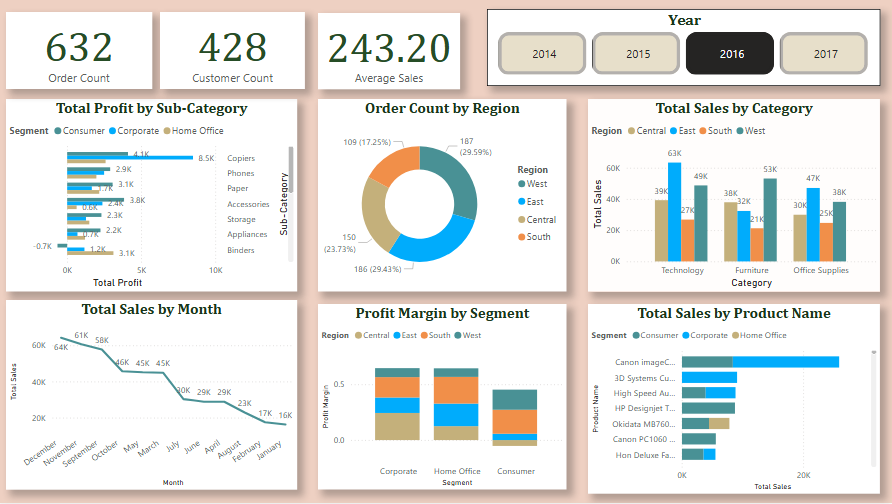

What the dashboard file says about the page in this screenshot:
{"tool":"powerbi","page":{"name":"Page 1","canvas":[1280,720],"ordinal":0},"visuals":[{"type":"clusteredColumnChart","title":"Total Sales by Category ","fields":{"Category":["Sample - Superstore.Category"],"Y":["Sample - Superstore.Total Sales"],"Series":["Sample - Superstore.Region"]},"box":[844.9,143.5,417.4,275.4],"z":0},{"type":"clusteredBarChart","title":"Total Profit by Sub-Category ","fields":{"Category":["Sample - Superstore.Sub-Category"],"Y":["Sample - Superstore.Total Profit"],"Series":["Sample - Superstore.Segment"]},"box":[13,143.5,415.9,275.4],"z":1000},{"type":"lineChart","fields":{"Category":["Sample - Superstore.Month"],"Y":["Sample - Superstore.Total Sales"]},"box":[13,430.4,415.9,271],"z":2000},{"type":"barChart","title":"Total Sales by Product Name","fields":{"Y":["Sample - Superstore.Total Sales"],"Category":["Sample - Superstore.Product Name"],"Series":["Sample - Superstore.Segment"]},"box":[844.9,436.2,417.4,271],"z":3000},{"type":"card","fields":{"Values":["Sample - Superstore.Order Count"]},"box":[13,18.8,208.7,110.1],"z":4000},{"type":"advancedSlicerVisual","fields":{"Values":["Sample - Superstore.Year"]},"box":[700,14.5,562.3,110.1],"z":5000},{"type":"card","fields":{"Values":["Sample - Superstore.Average Sales"]},"box":[458,20.3,202.9,108.7],"z":6000},{"type":"card","fields":{"Values":["Sample - Superstore.Customer Count"]},"box":[233.3,18.8,207.2,110.1],"z":7000},{"type":"donutChart","fields":{"Y":["Sample - Superstore.Order Count"],"Category":["Sample - Superstore.Region"]},"box":[458,143.5,355.1,275.4],"z":8000},{"type":"columnChart","title":"Profit Margin by Segment","fields":{"Category":["Sample - Superstore.Segment"],"Y":["Sample - Superstore.Profit Margin"],"Series":["Sample - Superstore.Region"]},"box":[458,436.2,355.1,265.2],"z":9000}]}

Visuals, with their boxes in screenshot pixels (x1, y1, x2, y2), scaled from the page's 1280x720 canvas onto the 892x504 screenshot:
"Total Sales by Category " clusteredColumnChart: [left=589, top=100, right=880, bottom=293]
"Total Profit by Sub-Category " clusteredBarChart: [left=9, top=100, right=299, bottom=293]
lineChart - Sample - Superstore.Month x Sample - Superstore.Total Sales: [left=9, top=301, right=299, bottom=491]
"Total Sales by Product Name" barChart: [left=589, top=305, right=880, bottom=495]
card - Sample - Superstore.Order Count: [left=9, top=13, right=154, bottom=90]
advancedSlicerVisual - Sample - Superstore.Year: [left=488, top=10, right=880, bottom=87]
card - Sample - Superstore.Average Sales: [left=319, top=14, right=461, bottom=90]
card - Sample - Superstore.Customer Count: [left=163, top=13, right=307, bottom=90]
donutChart - Sample - Superstore.Order Count x Sample - Superstore.Region: [left=319, top=100, right=567, bottom=293]
"Profit Margin by Segment" columnChart: [left=319, top=305, right=567, bottom=491]
